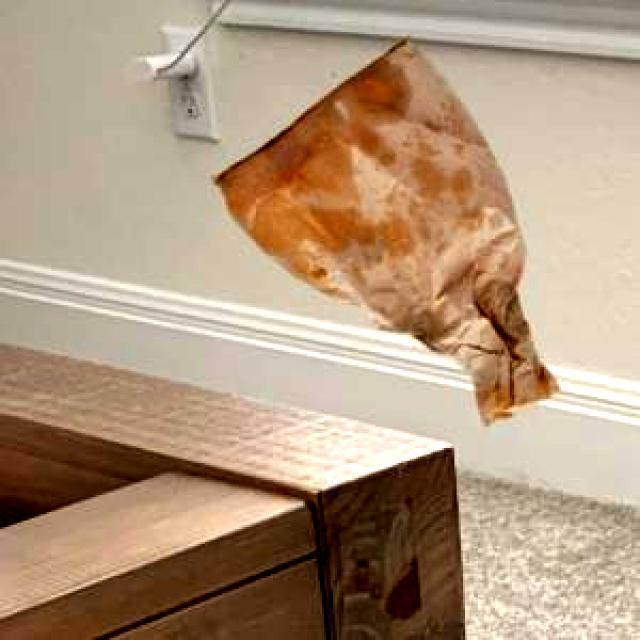Paper_Bag: (208, 35, 556, 424)
